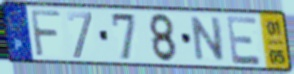7: (109, 11, 139, 61), (65, 10, 94, 60)
8: (148, 12, 180, 64)
E: (224, 14, 264, 67)
F: (29, 8, 63, 59)
N: (190, 15, 227, 63)
